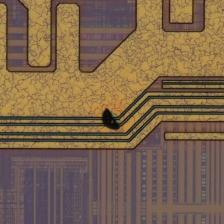PARTICLE: (97, 106, 125, 134)
